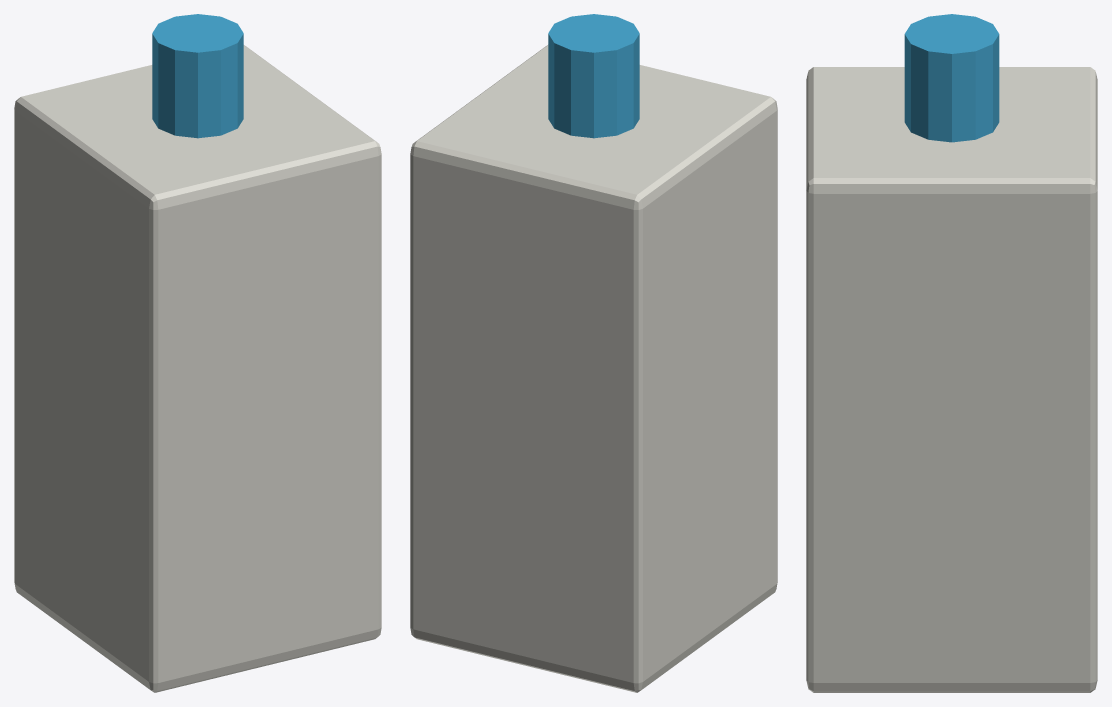
Rendered from dairy_item.glb.
3 views of the same model, side by side, from view 1: azimuth 30°, elevation 25°; view 2: azimuth 150°, elevation 25°; view 3: azimuth 270°, elevation 25° (orthographic). The views are drawn at different scales.
Parts seen in each view (by area): view 1: Cold drink carton.072, Carton cap.072; view 2: Cold drink carton.072, Carton cap.072; view 3: Cold drink carton.072, Carton cap.072.
Part boxes in pixels (x1=…): Cold drink carton.072: x1=14, y1=45, x2=381, y2=692; Carton cap.072: x1=152, y1=14, x2=243, y2=138; Cold drink carton.072: x1=410, y1=45, x2=777, y2=692; Carton cap.072: x1=548, y1=14, x2=639, y2=138; Cold drink carton.072: x1=806, y1=67, x2=1097, y2=692; Carton cap.072: x1=904, y1=14, x2=999, y2=142.
Bounding box in the file's own units: 0.1746 × 0.42 × 0.1838.
